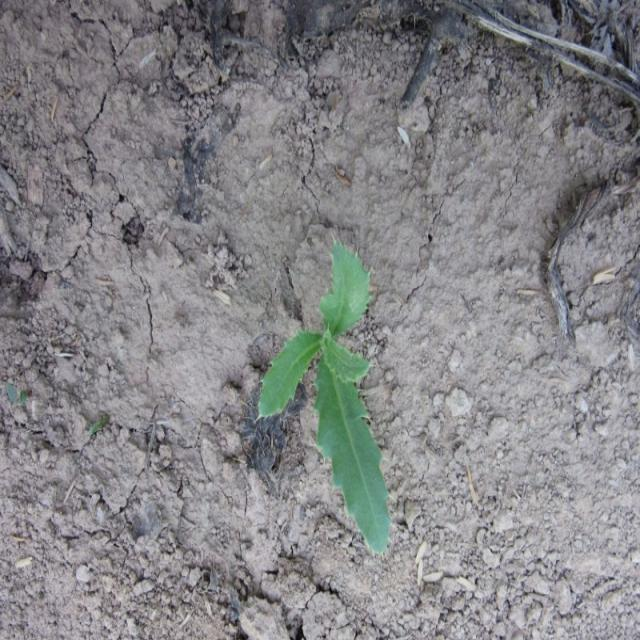cs: (255, 240, 394, 560)
